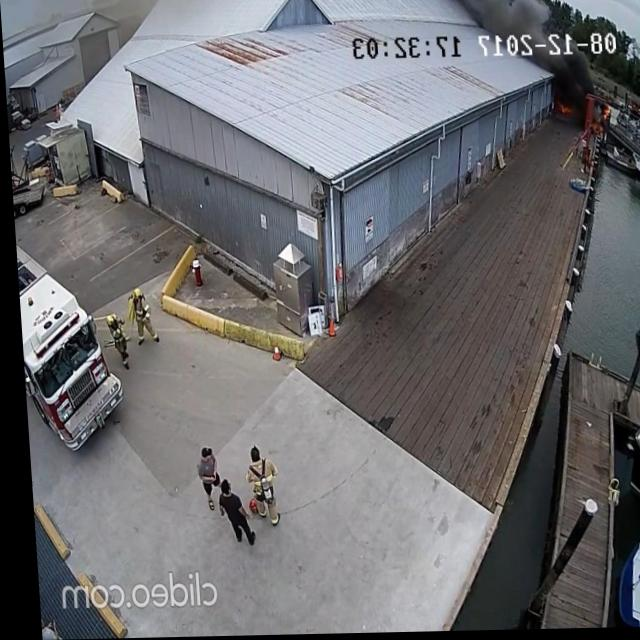fire: (549, 101, 576, 121), (596, 105, 613, 130)
